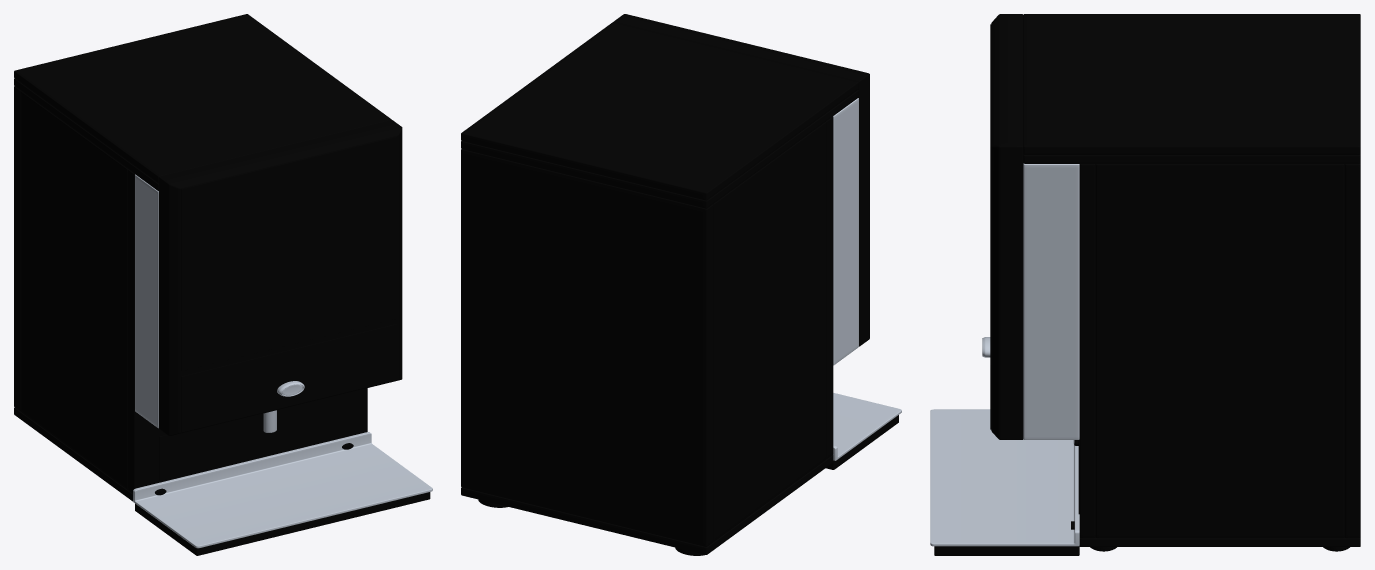
The model's file is expendedora de cafe express.glb.
3 views of the same model, side by side, from view 1: azimuth 30°, elevation 25°; view 2: azimuth 150°, elevation 25°; view 3: azimuth 270°, elevation 25° (orthographic). The views are drawn at different scales.
Visible parts, largest first — view 1: 084; view 2: 084; view 3: 084.
Part boxes in pixels (x1=…): 084: x1=14, y1=14, x2=432, y2=555; 084: x1=461, y1=14, x2=901, y2=555; 084: x1=930, y1=14, x2=1360, y2=555.
Bounding box in the file's own units: 18.65 × 26.46 × 25.19.
